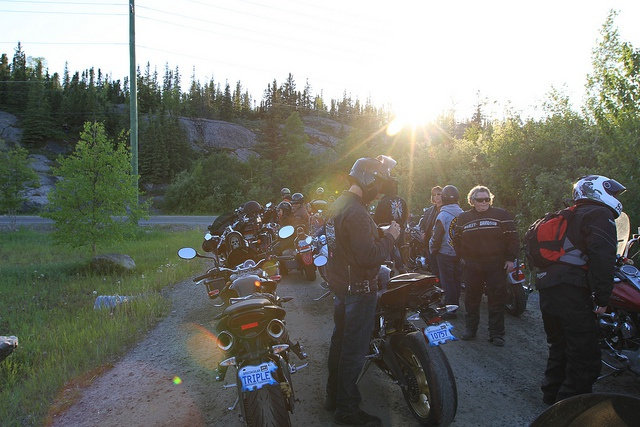non-vehicle: (175, 226, 310, 427), (358, 257, 463, 420), (597, 233, 639, 351), (203, 200, 280, 262), (210, 198, 264, 237), (505, 257, 533, 317), (291, 241, 316, 282), (304, 200, 329, 233)
